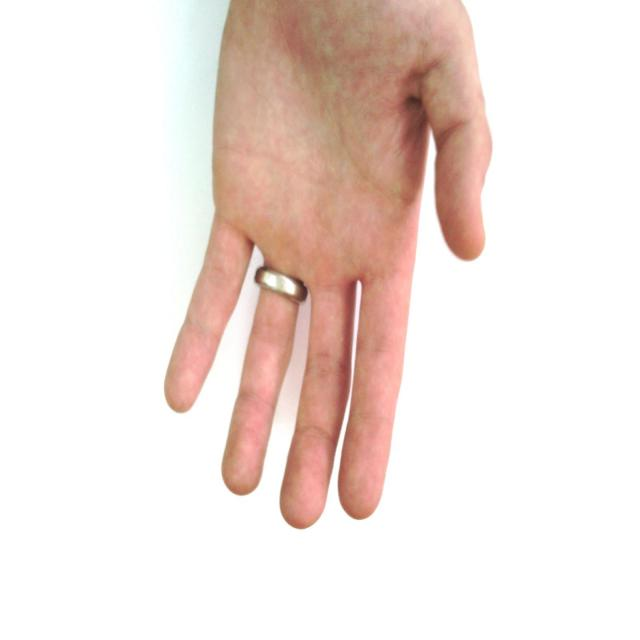others: (155, 1, 510, 530)
